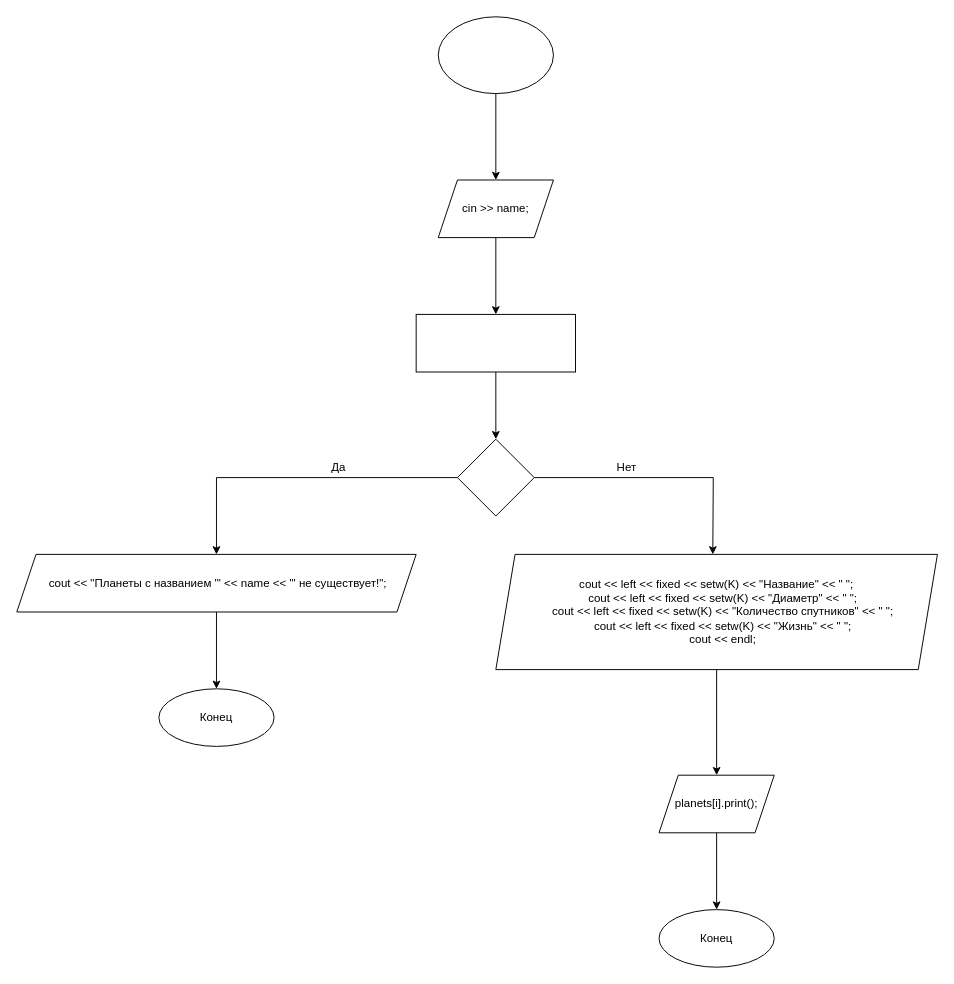
This 954x984 diagram has some shape labels left out. The box of each missing label's shape, as (x1, y1, x2, y2) in pixels:
i == -1: (456, 438, 534, 516)
int i = GetPlanet(name);: (415, 313, 576, 372)
Начало: (437, 16, 553, 94)
